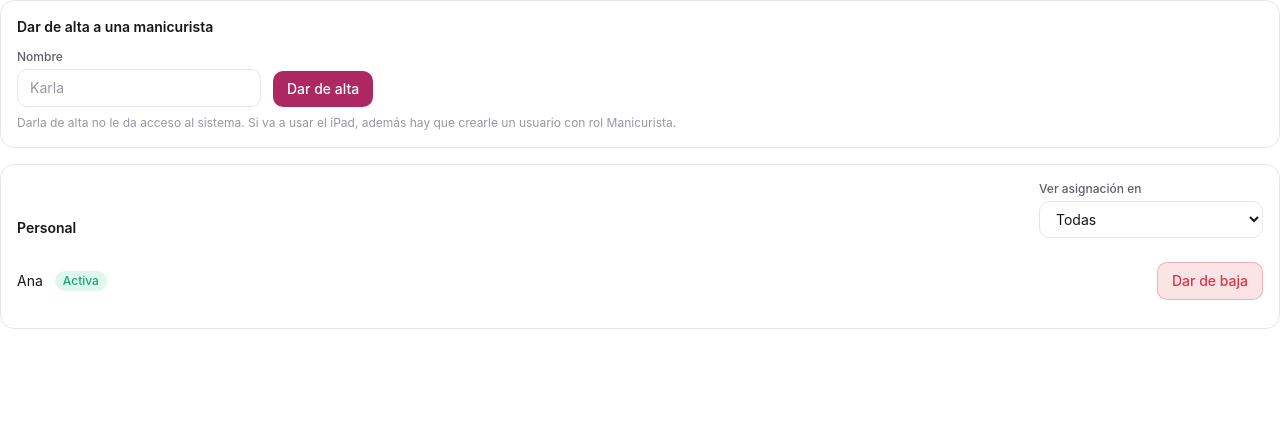
Test: Backoffice — Personal › EXPLICA el 409 MANICURISTA_CON_CITAS_ACTIVAS en vez de mostrar un conflicto genérico
Step 1. Click the button with aria-label "Dar de baja a Ana" → {"x": 1210, "y": 281}, box [1157,262,1263,300]
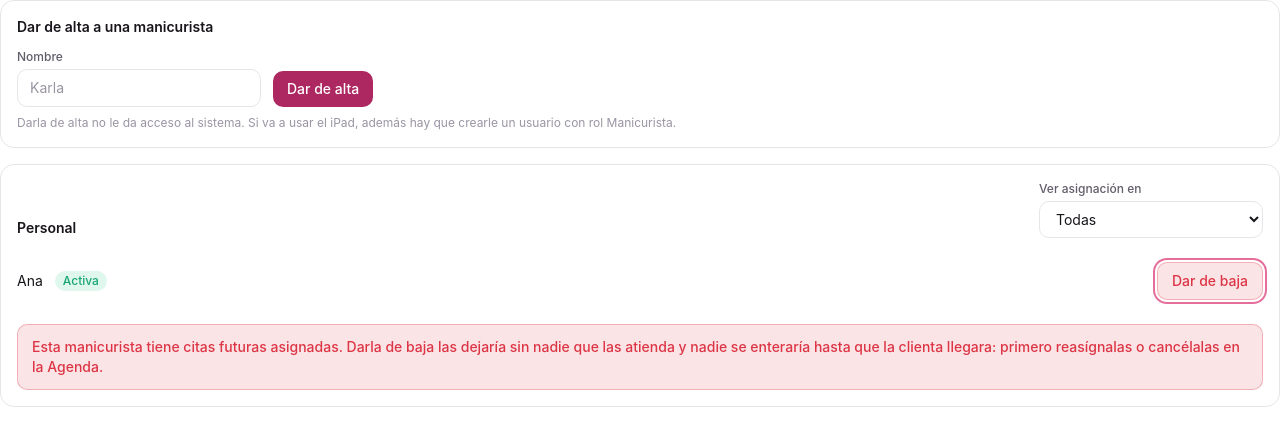
Check: the message shows "citas futuras asignadas", box [32,338,1240,375]
Check: the message shows "las dejaría sin nadie que las atienda", box [32,338,1240,375]
Check: the message shows "reasígnalas o cancélalas en la Agenda", box [32,338,1240,375]
